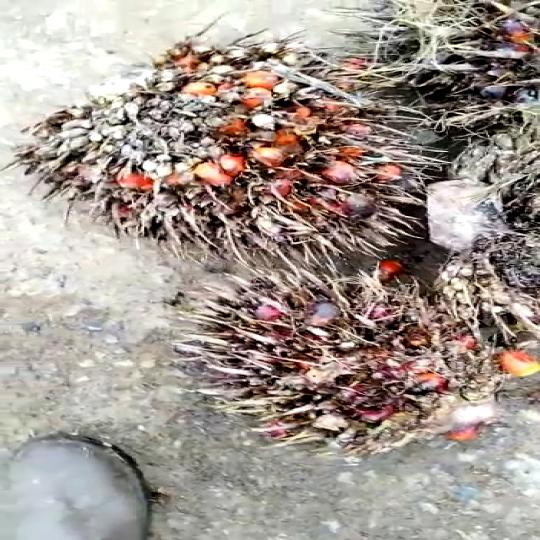terlalu masak: (26, 41, 404, 260), (175, 269, 499, 449)
